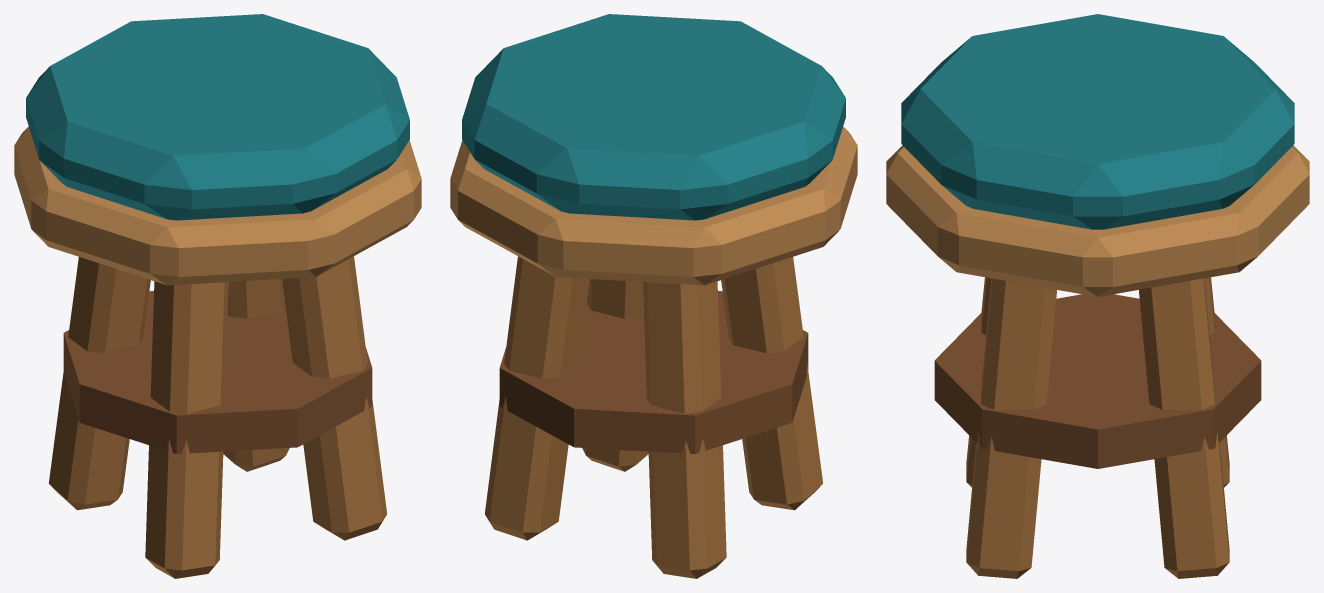
File: sketch_stool.glb
3 views of the same model, side by side, from view 1: azimuth 30°, elevation 25°; view 2: azimuth 150°, elevation 25°; view 3: azimuth 270°, elevation 25° (orthographic). The views are drawn at different scales.
Parts seen in each view (by area): view 1: sketch_stool; view 2: sketch_stool; view 3: sketch_stool.
Boxes of the visible parts, x1=… form: sketch_stool: x1=14, y1=14, x2=421, y2=578; sketch_stool: x1=450, y1=14, x2=857, y2=578; sketch_stool: x1=886, y1=14, x2=1309, y2=578.
Bounding box in the file's own units: 0.3885 × 0.4481 × 0.3885.
